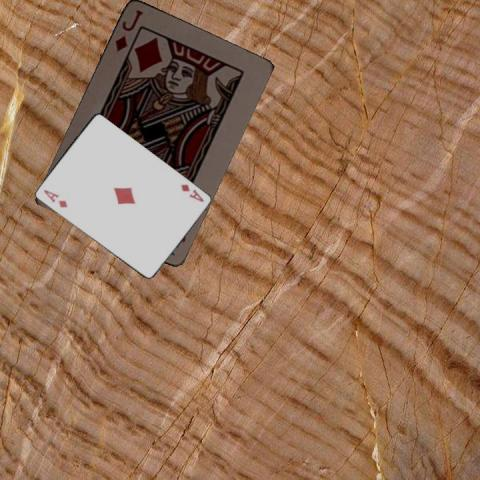Ad: (40, 187, 69, 209), (177, 182, 205, 204)
Jd: (111, 6, 145, 53)
